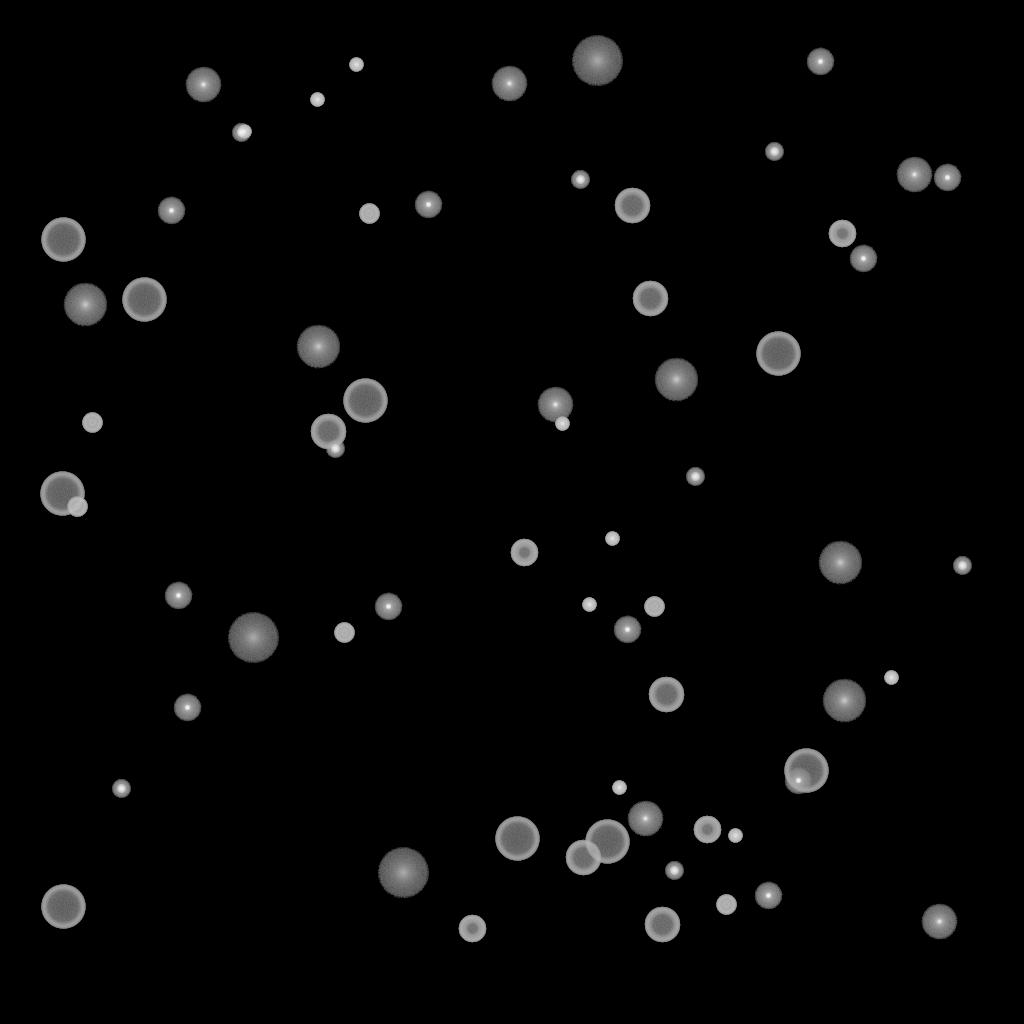depth:-10: (806, 48, 834, 76), (849, 245, 877, 273), (157, 197, 185, 225), (374, 593, 402, 621), (164, 582, 192, 610), (933, 164, 961, 192), (784, 767, 812, 795), (414, 191, 442, 219), (754, 882, 782, 910), (613, 616, 641, 644), (173, 694, 201, 722)
depth:-20: (232, 124, 250, 142), (665, 862, 683, 880), (571, 171, 589, 189), (326, 440, 344, 458), (686, 468, 704, 486), (765, 143, 783, 161), (953, 557, 971, 575), (112, 780, 130, 798)
depth:-30: (582, 598, 596, 612), (310, 93, 324, 107), (237, 125, 251, 139), (555, 417, 569, 431), (728, 829, 742, 843), (612, 781, 626, 795), (605, 532, 619, 546), (884, 671, 898, 685), (349, 58, 363, 72)
depth:-40: (67, 497, 87, 517), (359, 204, 379, 224), (82, 413, 102, 433), (644, 597, 664, 617), (334, 623, 354, 643), (716, 895, 736, 915)
depth:-50: (510, 539, 538, 567), (458, 915, 486, 943), (693, 816, 721, 844), (828, 220, 856, 248)
depth:-60: (648, 677, 684, 713), (644, 907, 680, 943), (310, 414, 346, 450), (614, 188, 650, 224), (565, 840, 601, 876), (632, 281, 668, 317)
depth:-70: (40, 472, 84, 516), (756, 332, 800, 376), (495, 817, 539, 861), (41, 885, 85, 929), (784, 749, 828, 793), (122, 278, 166, 322), (41, 218, 85, 262), (343, 379, 387, 423), (585, 820, 629, 864)
depth:0: (537, 387, 573, 423), (185, 67, 221, 103), (491, 66, 527, 102), (627, 801, 663, 837), (921, 904, 957, 940), (896, 157, 932, 193)
depth:10: (818, 541, 862, 585), (822, 679, 866, 723), (654, 358, 698, 402), (296, 325, 340, 369), (63, 283, 107, 327)
depth:20: (227, 613, 279, 663), (571, 36, 623, 86), (377, 848, 429, 898)
